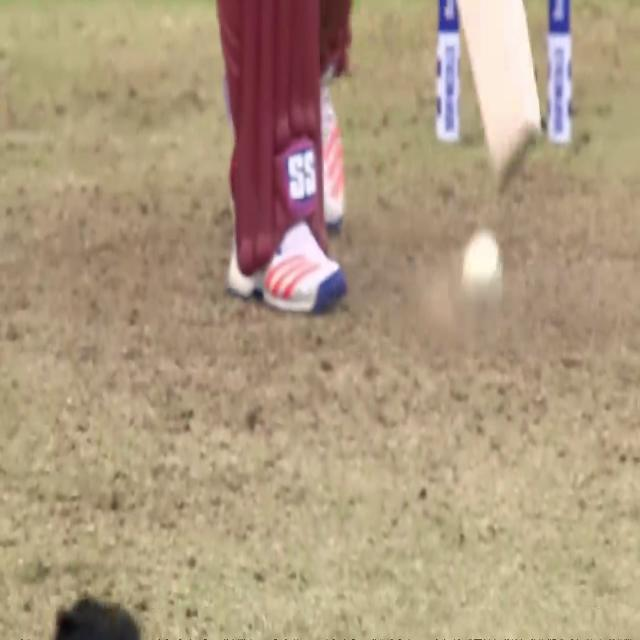ball: (457, 222, 507, 305)
